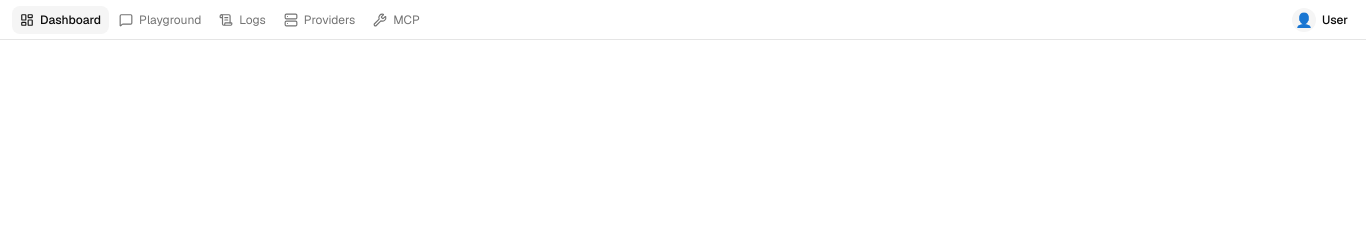
it: Topbar — user menu › does not show an Admin badge for a regular user, and hides the Users item
The width and height of the screenshot is (1366, 227).
What coordinates should you click on to do the following:
click the button "👤 User"
I would click on:
 (1320, 20)
Its box is left=1286, top=6, right=1354, bottom=34.
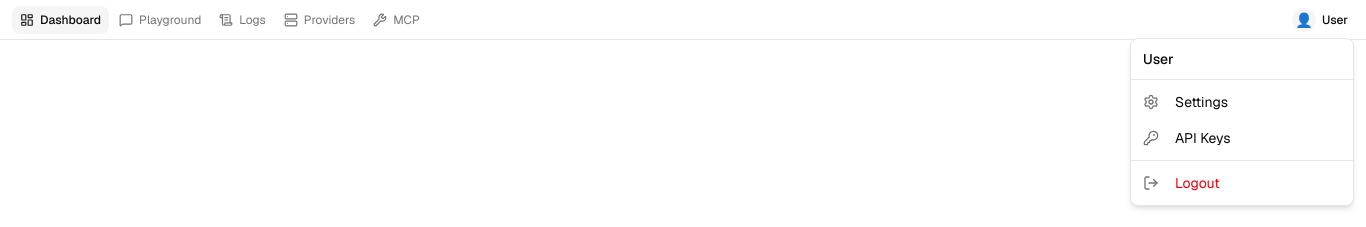
expect the menu item "Settings" is shown: met, box left=1143, top=93, right=1228, bottom=111
expect the menu item "API Keys" is shown: met, box left=1143, top=129, right=1230, bottom=147
